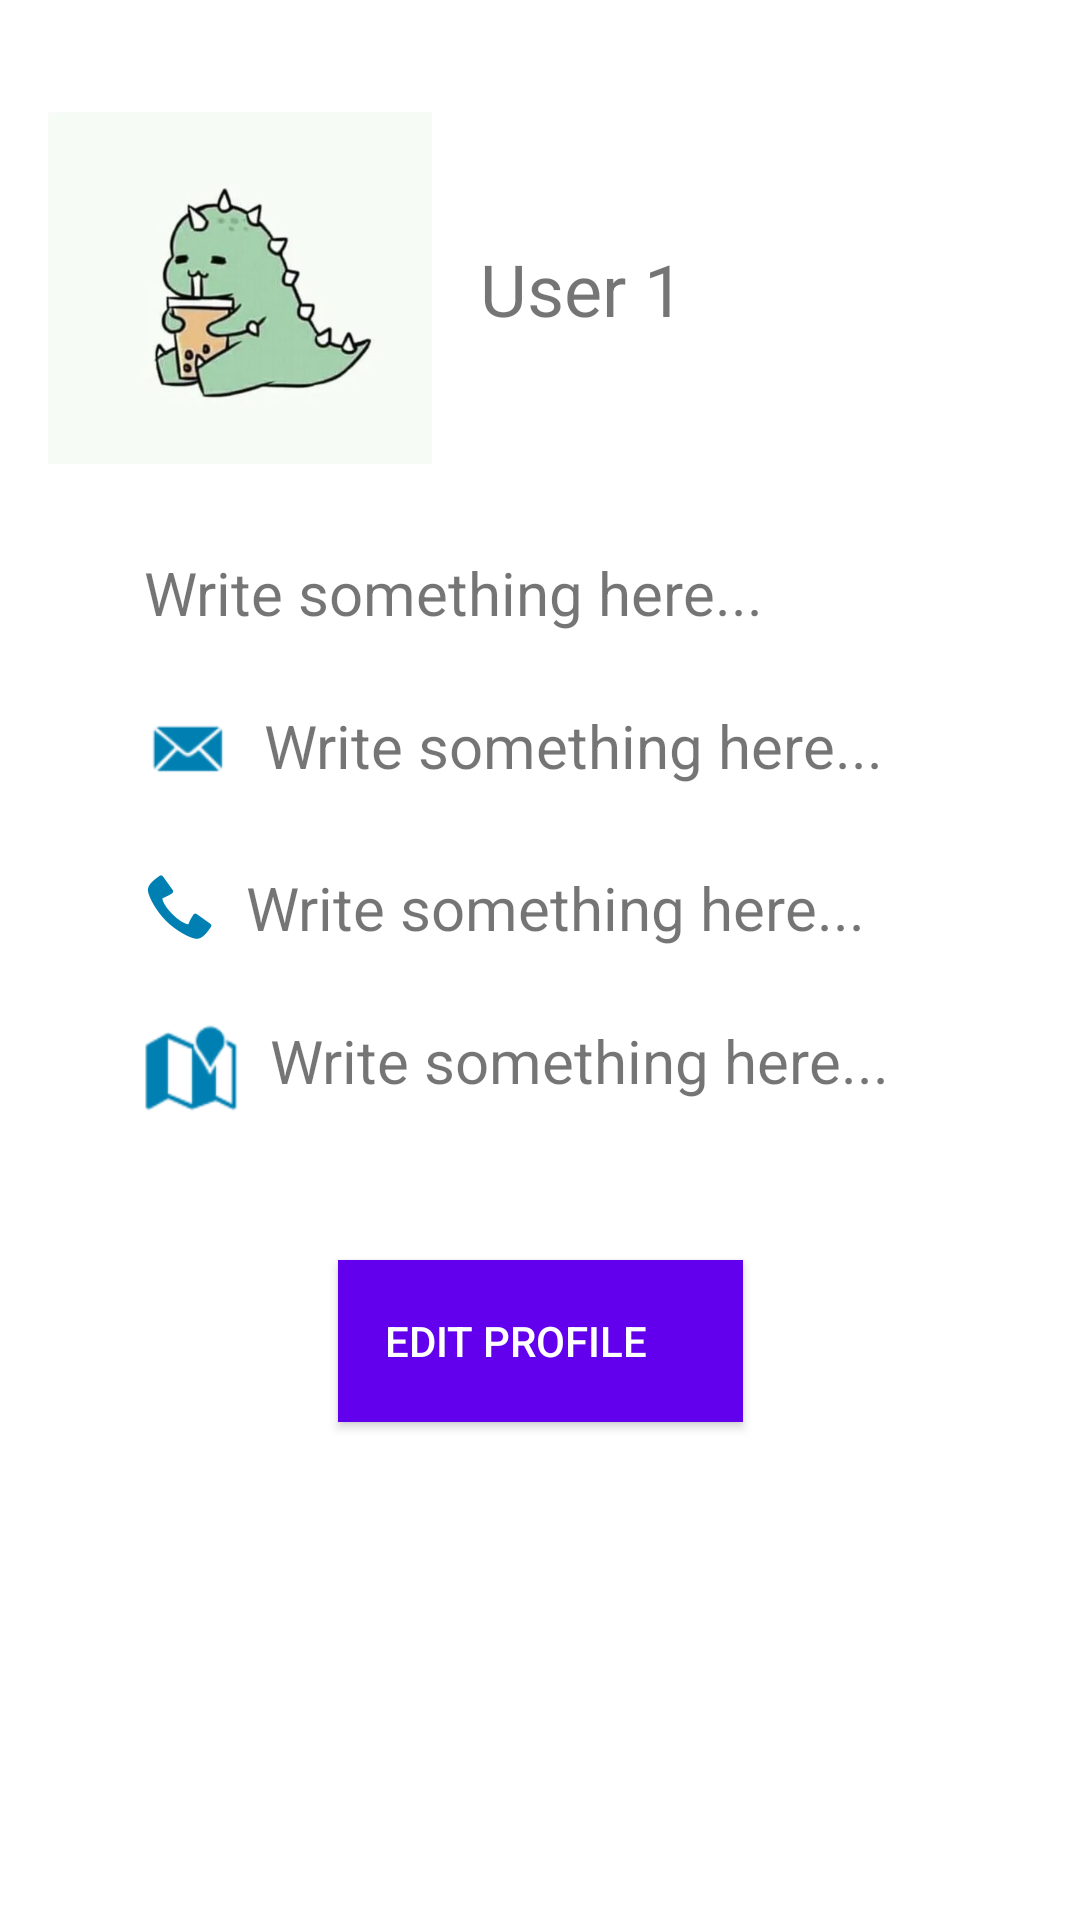

Where to tap for icons on this 1080px x 1920px app screen, as (x=x, y=y):
Profile picture: (x=263, y=293)
